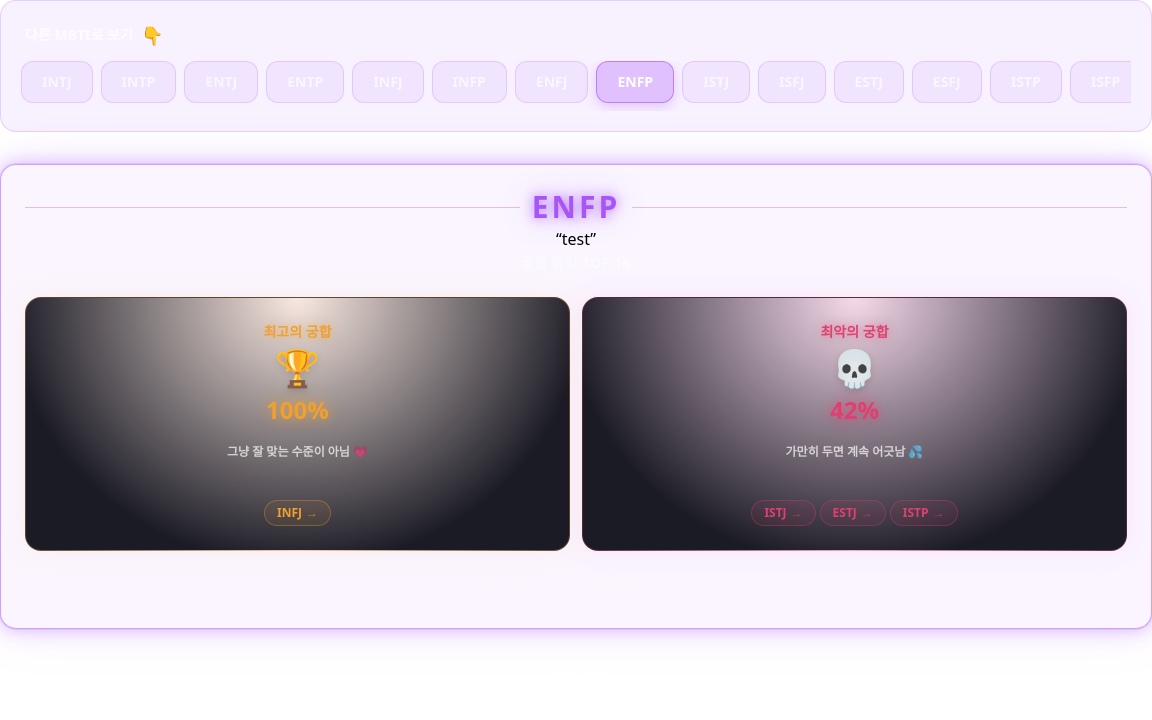
MbtiGrid › 배지 클릭 시 compat-detail-modal이 열린다
The image size is (1152, 720).
Click the button with test id "^mbti-badge-".
click(298, 513)  # box [264,500,331,526]
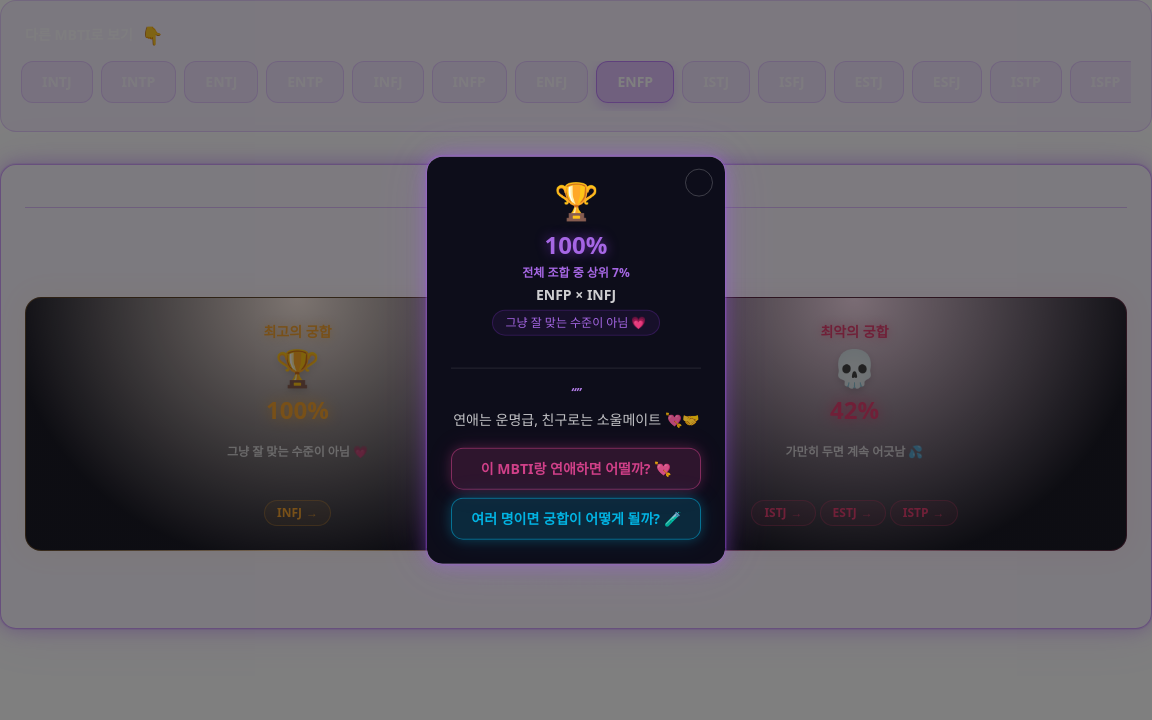
Now the element with test id "compat-detail-modal" is shown, box [427,157,725,563]
